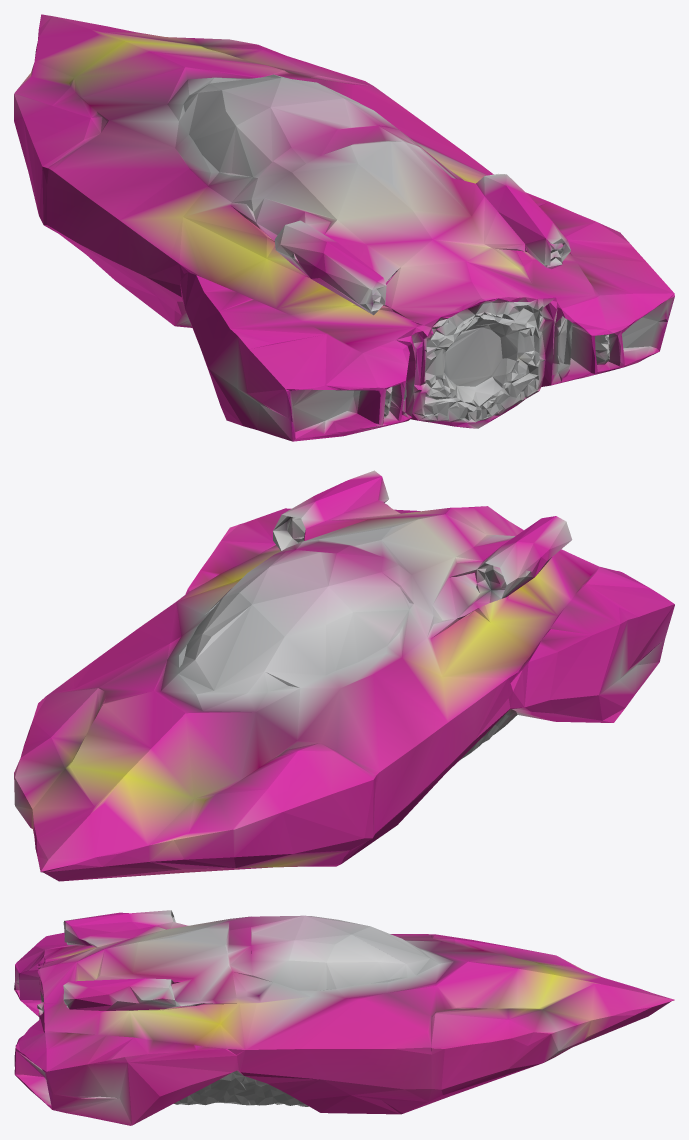
The model's file is pixie_lo.glb.
3 views of the same model, one above another, from view 1: azimuth 30°, elevation 25°; view 2: azimuth 150°, elevation 25°; view 3: azimuth 270°, elevation 25° (orthographic). The views are drawn at different scales.
Parts seen in each view (by area): view 1: geometry_0; view 2: geometry_0; view 3: geometry_0.
Boxes of the visible parts, x1=… form: geometry_0: x1=14, y1=14, x2=674, y2=441; geometry_0: x1=14, y1=470, x2=674, y2=881; geometry_0: x1=14, y1=910, x2=674, y2=1125.
Size of the model in its own units: 3.72 by 1.98 by 7.6.
